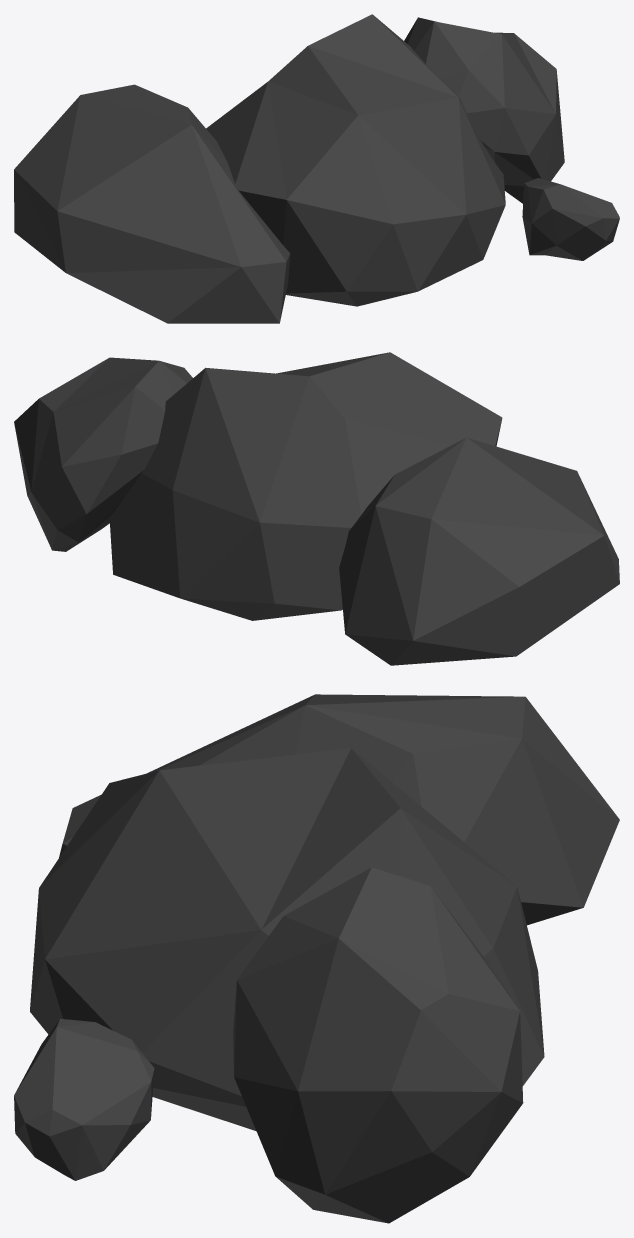
Rendered from stone.fbx.
3 views of the same model, one above another, from view 1: azimuth 30°, elevation 25°; view 2: azimuth 150°, elevation 25°; view 3: azimuth 270°, elevation 25° (orthographic). The views are drawn at different scales.
Visible parts, largest first — view 1: Icosphere.001, Icosphere, Icosphere.002, Icosphere.003; view 2: Icosphere.001, Icosphere, Icosphere.002; view 3: Icosphere.001, Icosphere.002, Icosphere, Icosphere.003.
Boxes of the visible parts, x1,y1,x2,y2 form: Icosphere.001: (206,14,505,306); Icosphere: (14,84,290,323); Icosphere.002: (404,17,564,203); Icosphere.003: (522,178,619,260); Icosphere.001: (109,352,502,620); Icosphere: (339,437,619,665); Icosphere.002: (14,357,192,551); Icosphere.001: (30,748,544,1130); Icosphere.002: (233,867,523,1223); Icosphere: (59,694,619,925); Icosphere.003: (14,1018,154,1180).
Bounding box in the file's own units: 373 × 140 × 243.
1 material, 1 textured.
